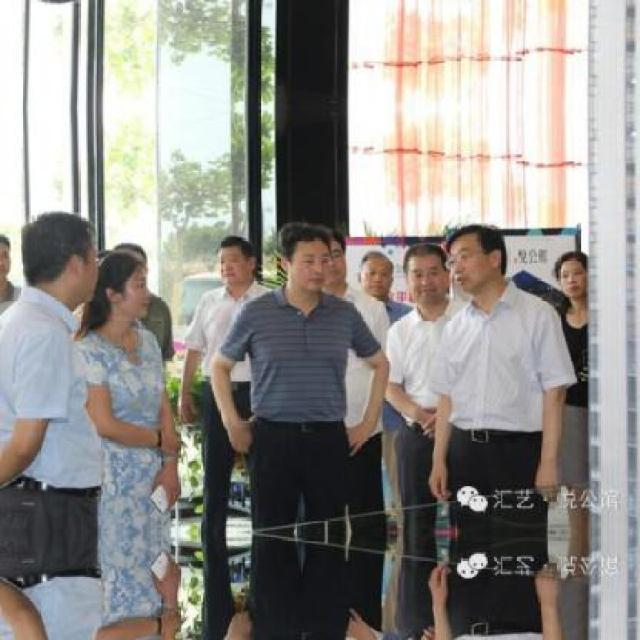nohelmet: (22, 212, 102, 300), (447, 222, 510, 300), (276, 224, 331, 295), (105, 252, 153, 326), (406, 242, 444, 308), (217, 236, 256, 284), (358, 252, 394, 302), (553, 249, 588, 299), (0, 228, 13, 284)
